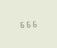six: (18, 20, 23, 28), (31, 19, 36, 27), (25, 20, 30, 27)
